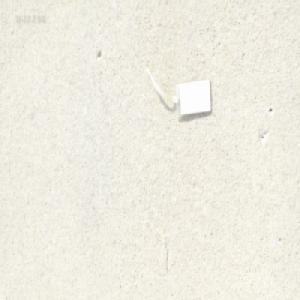LuggageTag: (144, 62, 214, 120)
